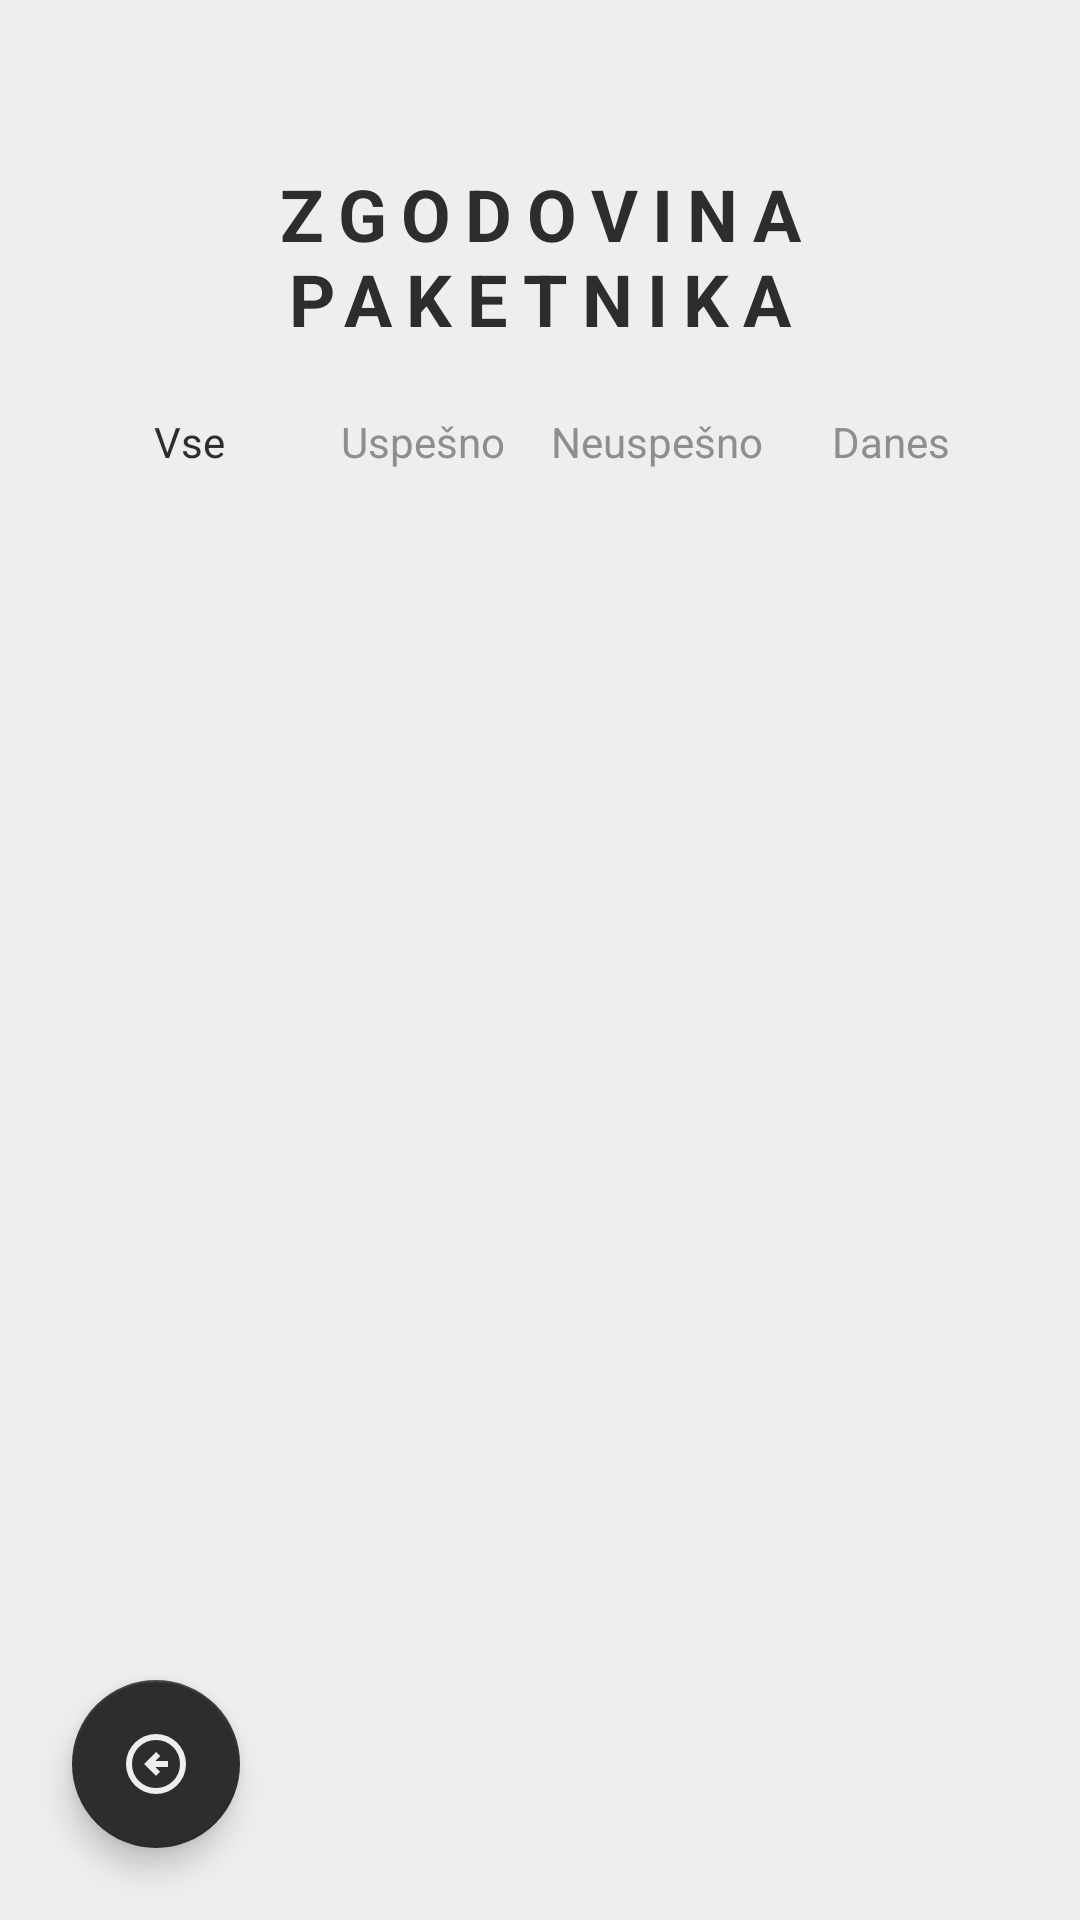

Locate icon controls on the screen. Image size 1080 × 1920, boxes as detection(x1, y1, x2, y2).
back: detection(72, 1680, 240, 1848)
